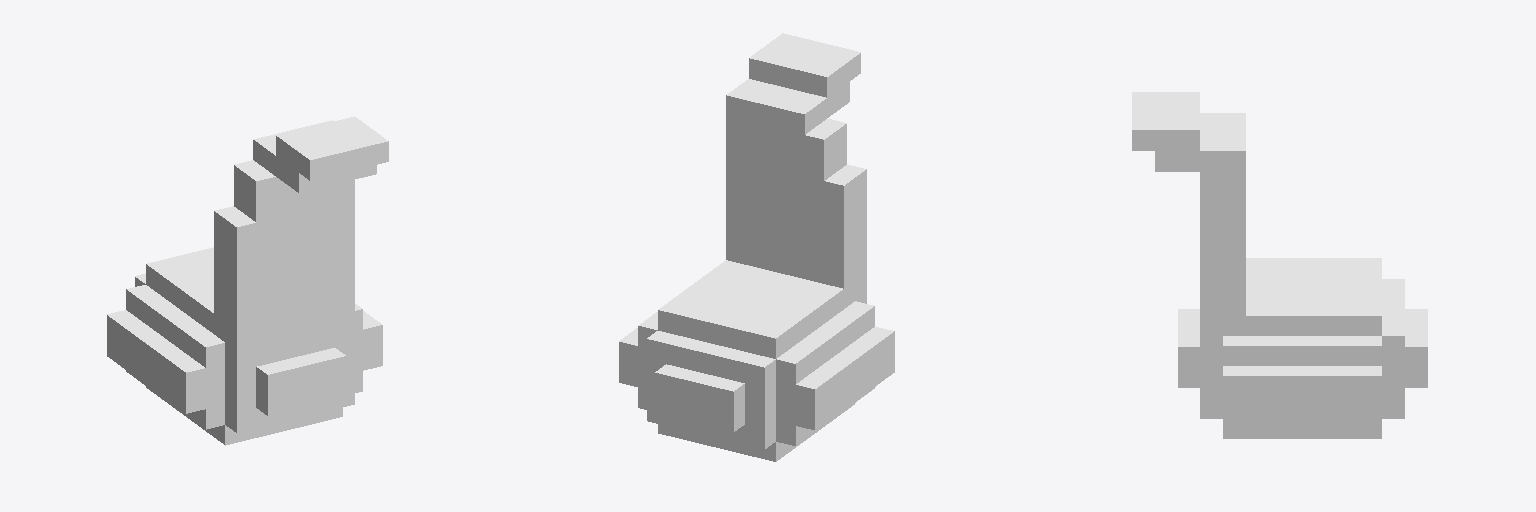
Rendered from notecherry.obj.
3 views of the same model, side by side, from view 1: azimuth 30°, elevation 25°; view 2: azimuth 150°, elevation 25°; view 3: azimuth 270°, elevation 25° (orthographic).
Visible parts, largest first — view 1: object 1; view 2: object 1; view 3: object 1.
Boxes of the visible parts, x1,y1,x2,y2 form: object 1: [107, 116, 388, 445]; object 1: [619, 33, 894, 461]; object 1: [1132, 92, 1427, 438].
Size of the model in its own units: 1 by 1.5 by 1.3.